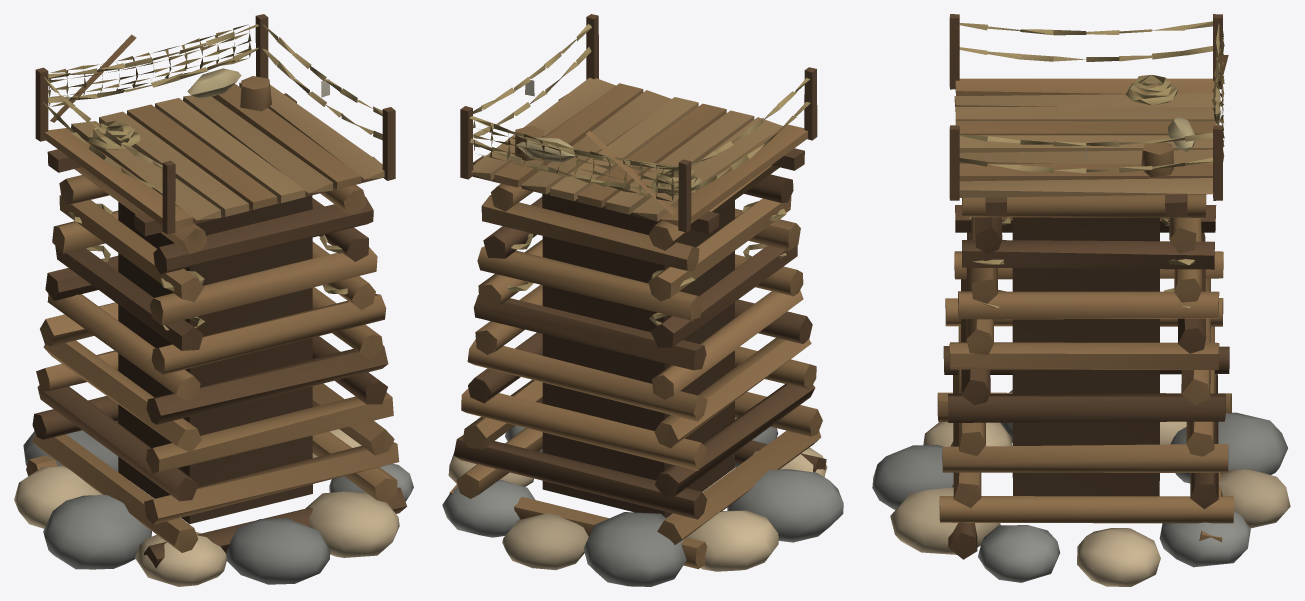
The model's file is lookout_deck_c_lod2.glb.
3 views of the same model, side by side, from view 1: azimuth 30°, elevation 25°; view 2: azimuth 150°, elevation 25°; view 3: azimuth 270°, elevation 25° (orthographic). The views are drawn at different scales.
Parts seen in each view (by area): view 1: Surface.001; view 2: Surface.001; view 3: Surface.001.
Boxes of the visible parts, x1,y1,x2,y2 form: Surface.001: (14, 14, 413, 586); Surface.001: (442, 14, 843, 586); Surface.001: (872, 14, 1290, 586).
Size of the model in its own units: 7.07 by 8.35 by 6.99.
